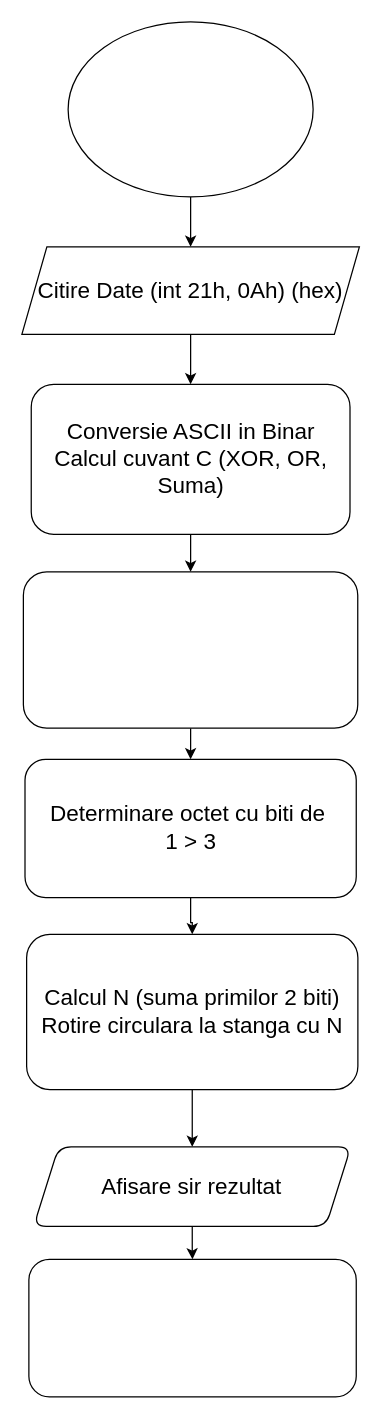
Image size: 381x1419. Some labels were removed from this diagram. The centre of each missing label's shape, as x and y in pixels:
"Sortare Descrescatoare (Bubble Sort)" belongs at [190,649].
"Start" belongs at [190,109].
"STOP" belongs at [192,1327].
